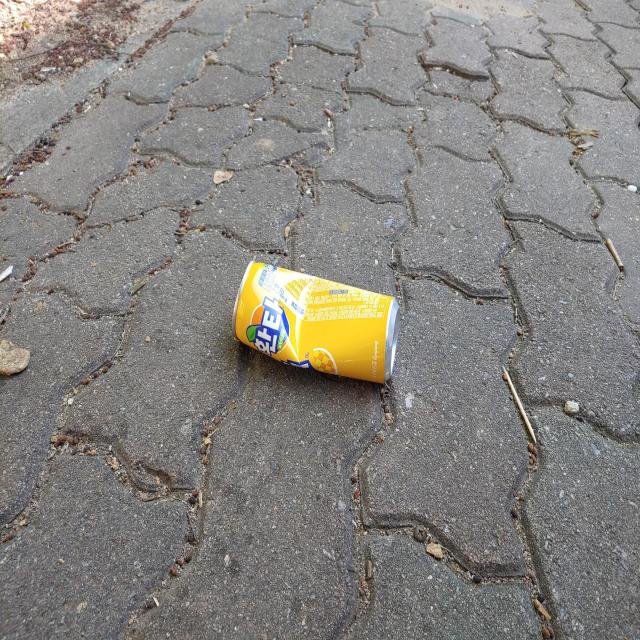can: (232, 261, 400, 383)
